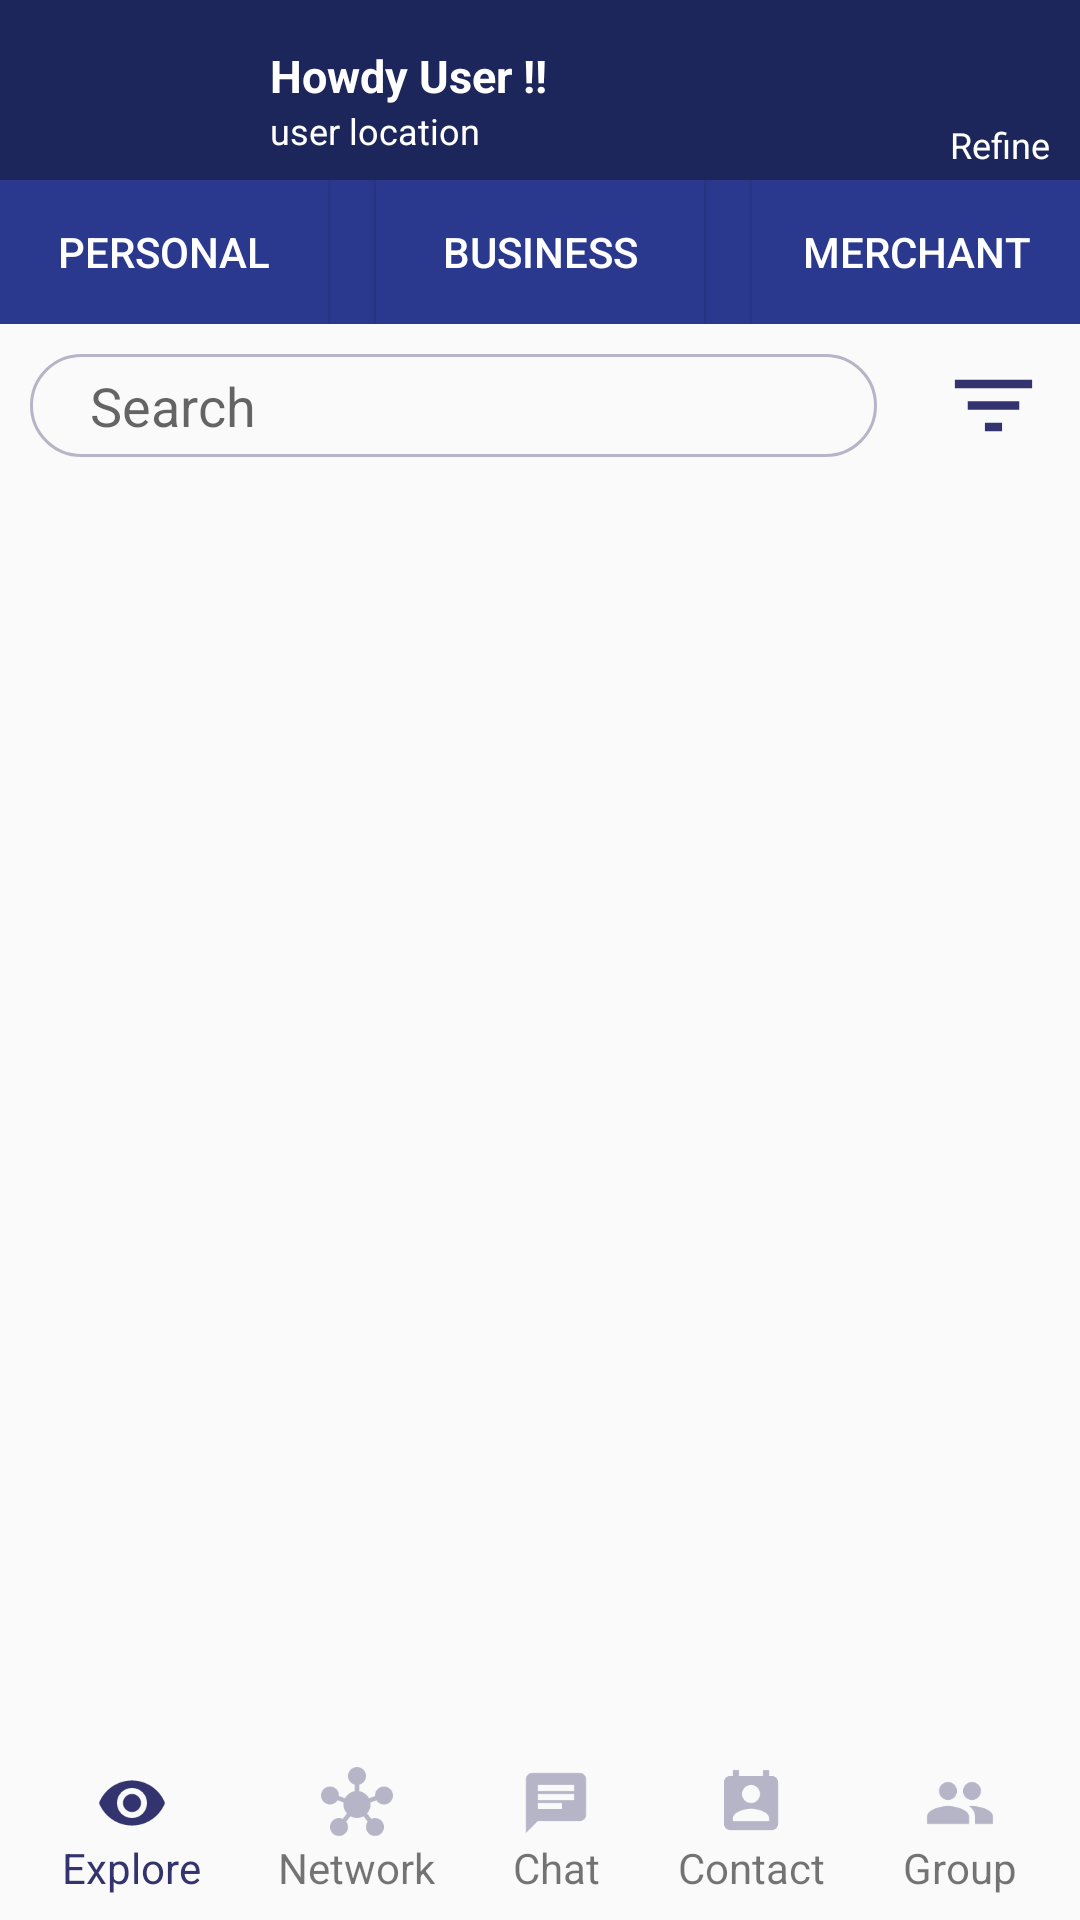

Icons on this 1080px×1920px Android screen, each with its box as (x1, y1, x2, y2):
eye: (99, 1780, 165, 1826)
filter: (954, 379, 1033, 432)
